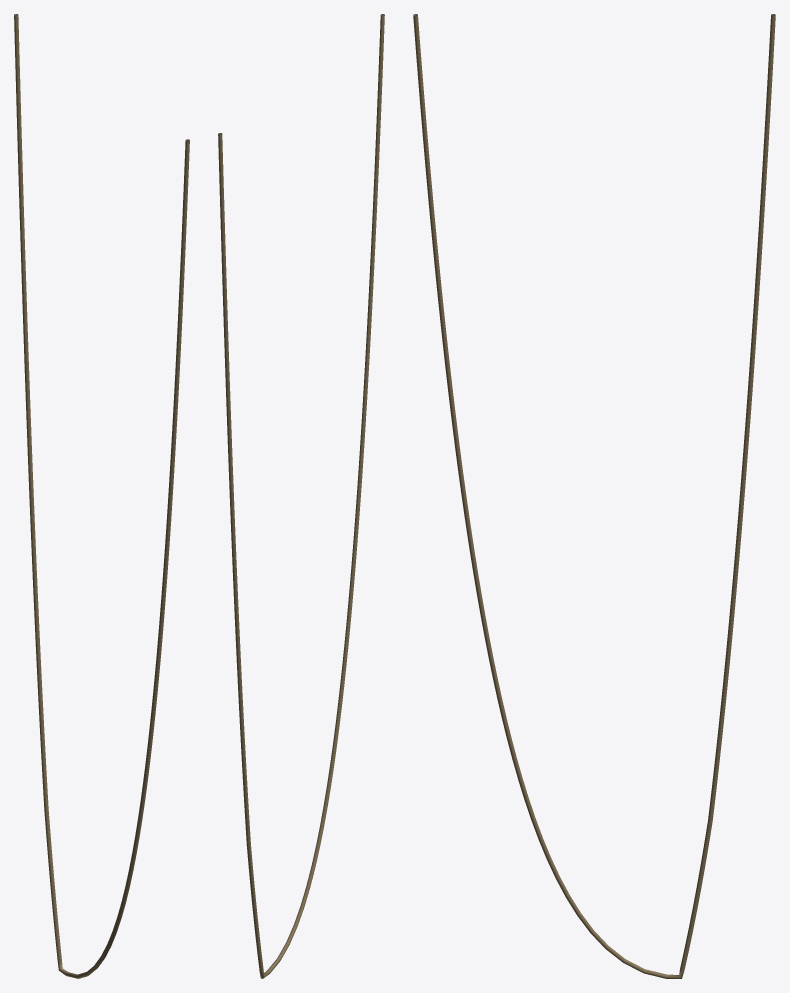
The model's file is SAG_chain_B.glb.
The picture shows the model from 3 angles, left to right: view 1: azimuth 30°, elevation 25°; view 2: azimuth 150°, elevation 25°; view 3: azimuth 270°, elevation 25°; orthographic projection. The views are drawn at different scales.
Parts seen in each view (by area): view 1: SAG_DYN_ChainSegment_B_PLETE.003; view 2: SAG_DYN_ChainSegment_B_PLETE.003; view 3: SAG_DYN_ChainSegment_B_PLETE.003.
Boxes of the visible parts, box(x1,y1,x2,y2) form: SAG_DYN_ChainSegment_B_PLETE.003: box(14, 14, 189, 978); SAG_DYN_ChainSegment_B_PLETE.003: box(218, 14, 384, 978); SAG_DYN_ChainSegment_B_PLETE.003: box(413, 14, 775, 978).
Bounding box in the file's own units: 0.02 × 4.46 × 1.52.
